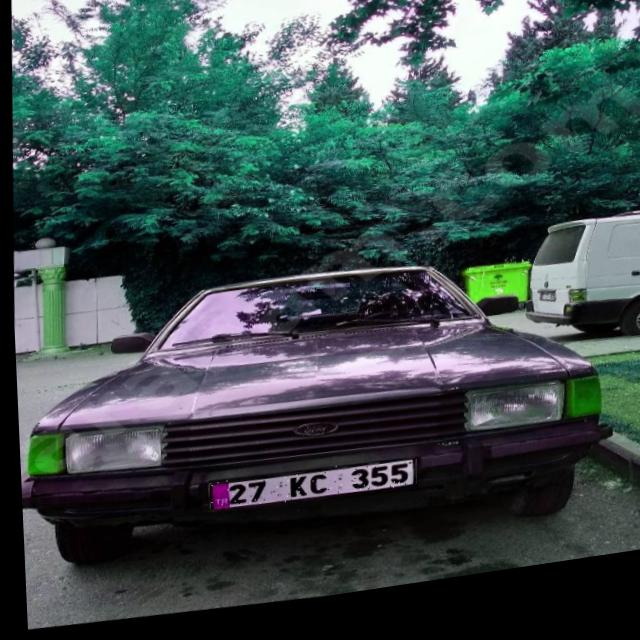license_plate: (202, 461, 414, 523)
